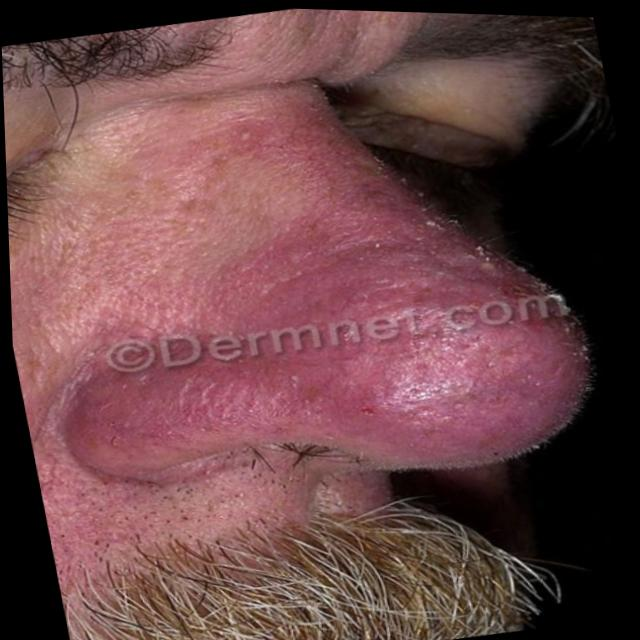Rosacea: (13, 86, 605, 527)
